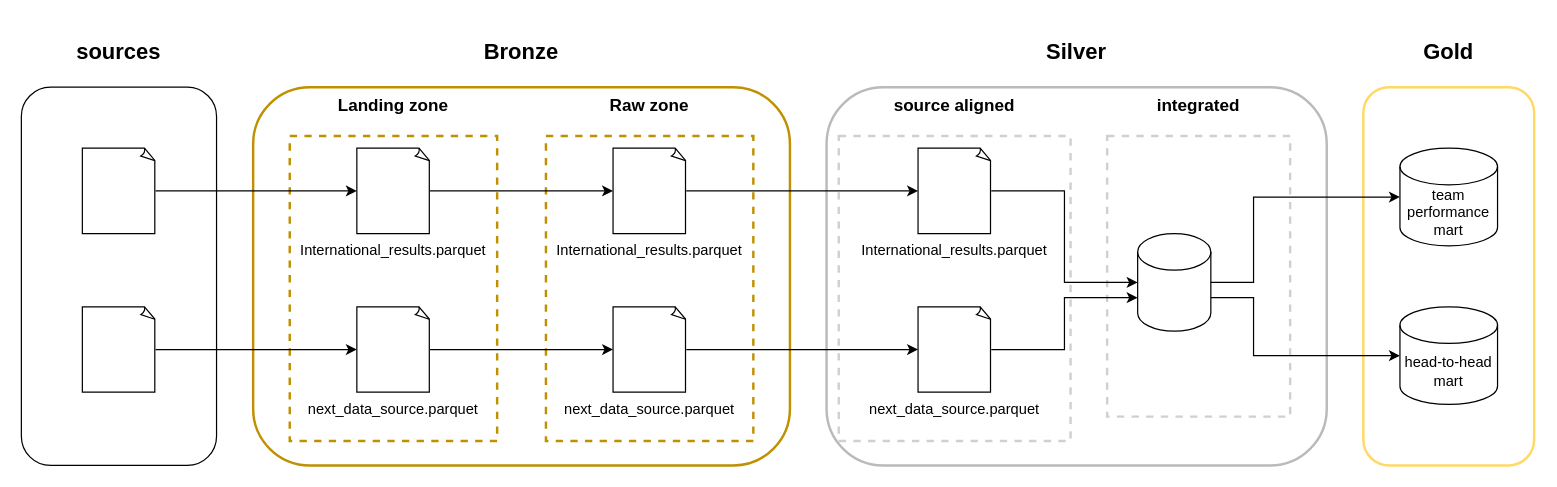
Some shapes in this 1557 by 487 pixel diagram are drawn without their labels. Each missing label, with the centre of its shape:
"3NF data model" belongs at point 1173,281.
"International_results.csv" belongs at point 118,190.
"new_data_source.csv" belongs at point 118,349.
